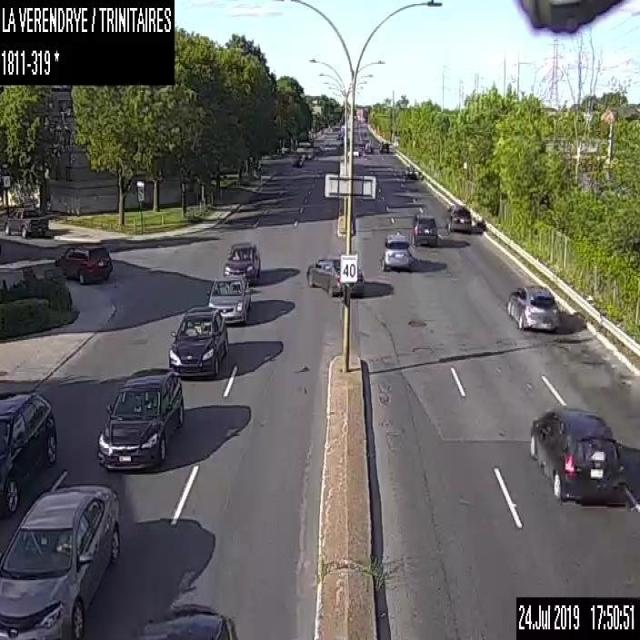vehicle: (0, 478, 122, 638), (528, 399, 626, 501), (94, 366, 184, 472), (0, 389, 57, 517), (134, 596, 239, 639), (168, 305, 228, 376), (505, 284, 558, 331), (305, 255, 364, 297), (54, 243, 114, 284), (206, 272, 251, 324), (3, 202, 46, 238), (223, 240, 260, 280), (382, 233, 411, 270), (412, 212, 437, 245), (445, 204, 471, 233), (403, 166, 418, 178), (292, 154, 303, 166), (379, 140, 388, 152), (302, 148, 312, 158), (364, 142, 371, 152), (335, 131, 343, 139), (353, 148, 358, 156)
